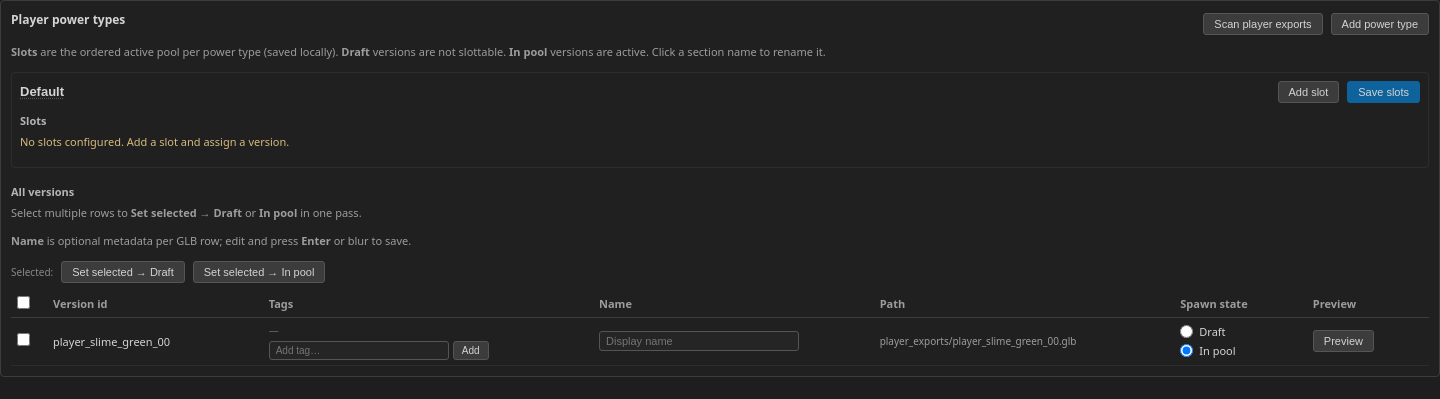
Scenario: RegistryPlayerPowerTypesSection › Add slot button adds an Unassigned dropdown row
Click the button with test id "player-pt-add-slot-default": click(1308, 92) [1278,81,1339,103]
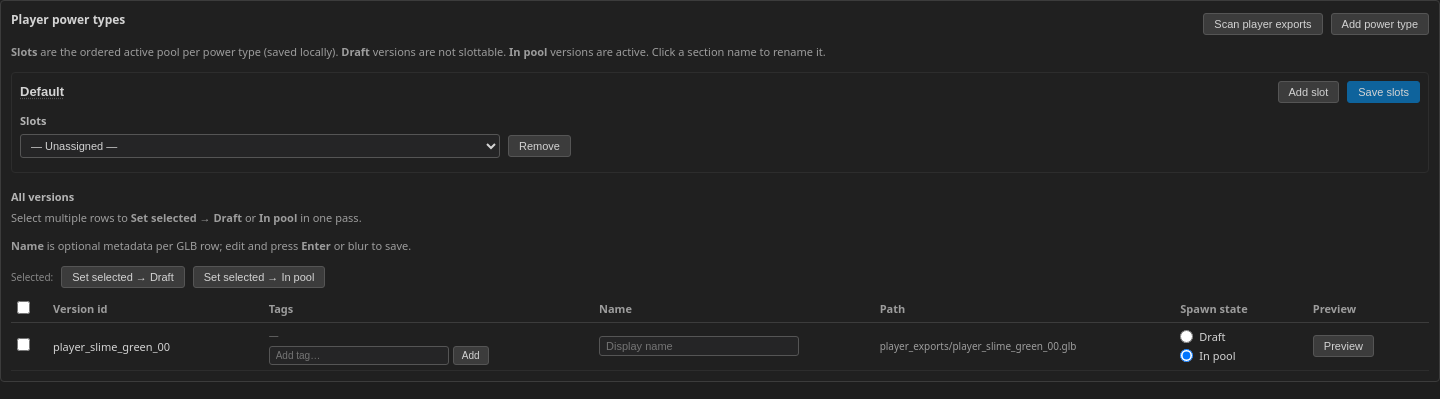
Expected: the dropdown with test id "player-pt-slot-select-default-0" is shown, [20,134,500,158]
